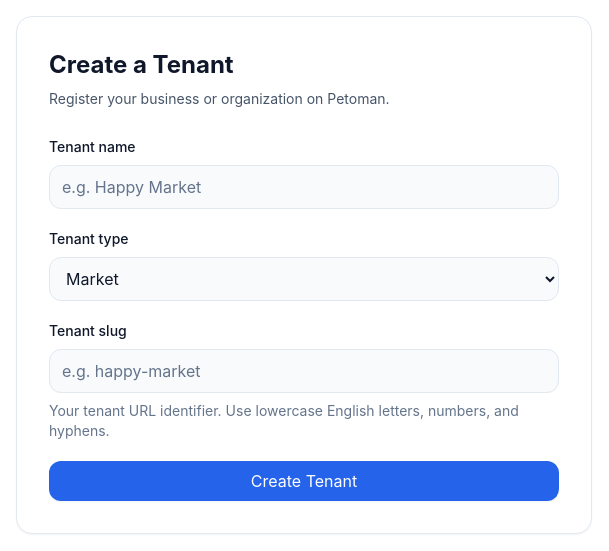
Test: CreateTenantPage › creates a tenant and displays the result
The image size is (609, 551).
Type "Happy Market" into the field labelled "Tenant name" at (304, 187), box [49,165,559,209]
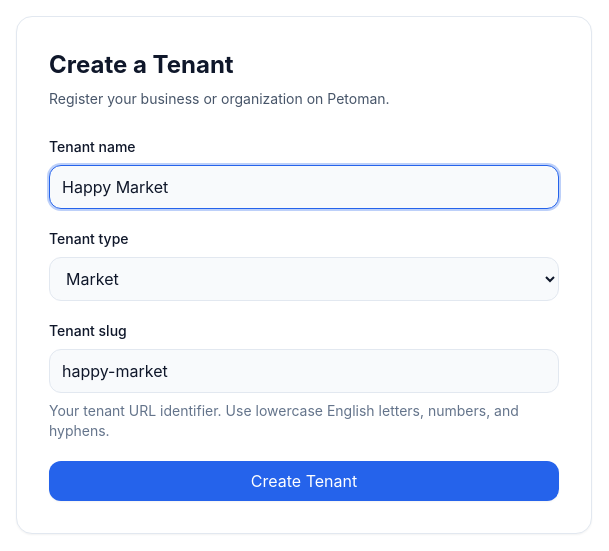
Click the button "Create Tenant" at (304, 481), box [49,461,559,501]
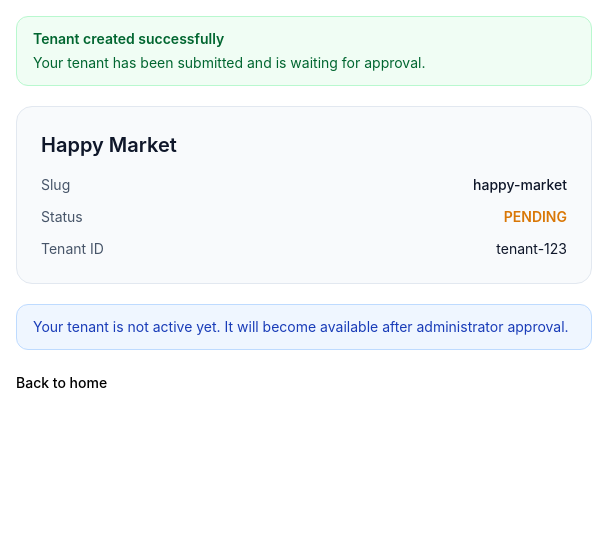
Now the heading "Happy Market" is shown, box [41,133,177,157]
Now the text "happy-market" is shown, box [473,175,567,195]
Now the text "PENDING" is shown, box [504,207,567,227]
